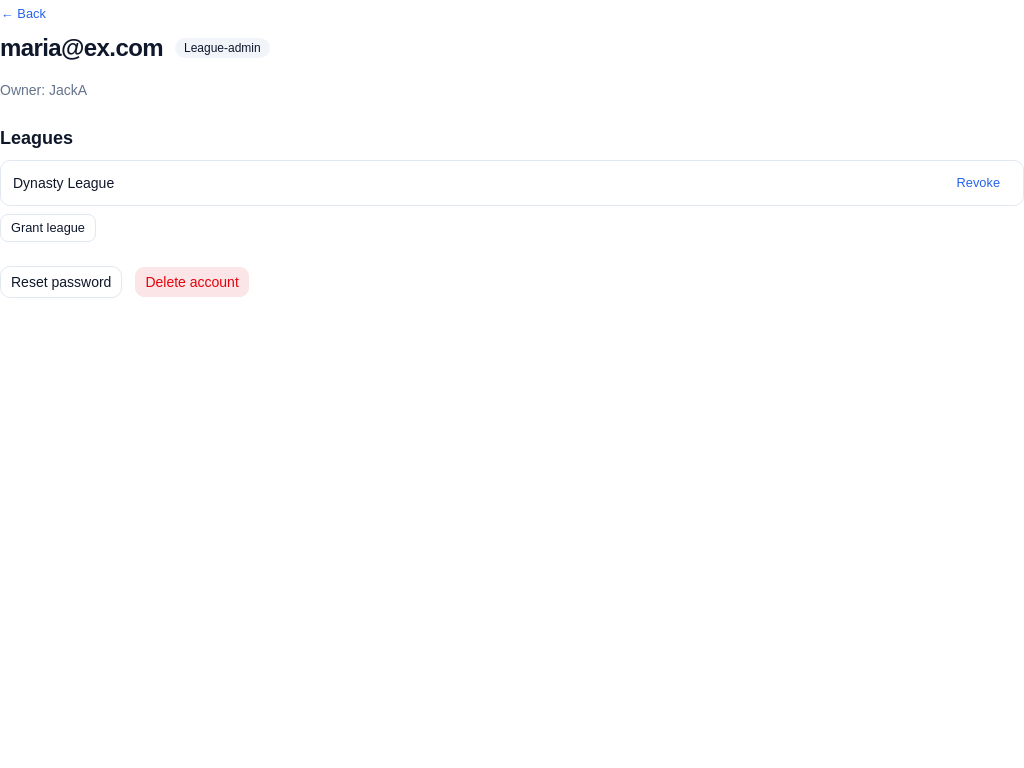
Test: saving a valid new password submits, closes the dialog, and clears the error
The image size is (1024, 768).
Click the button "Reset password" at x=61, y=282, box [0,266,122,298]
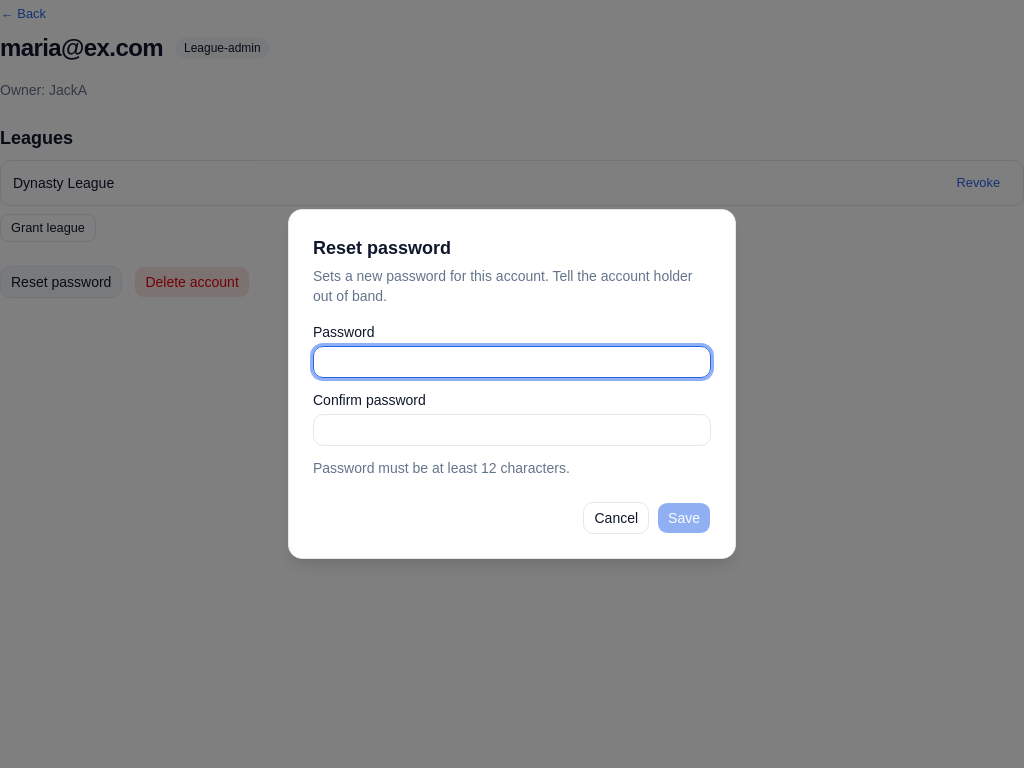
Type "longenoughpw123" into the password field labelled "Password" at x=512, y=362, box [313,346,711,378]
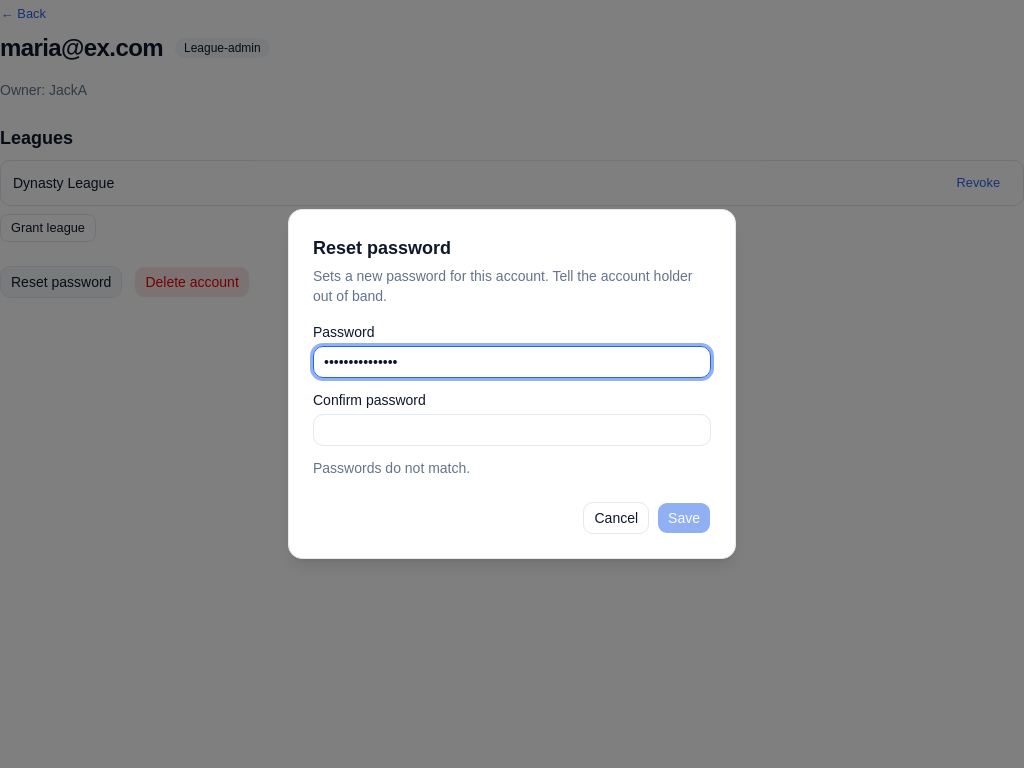
Type "longenoughpw123" into the password field labelled "Confirm password" at x=512, y=430, box [313,414,711,446]
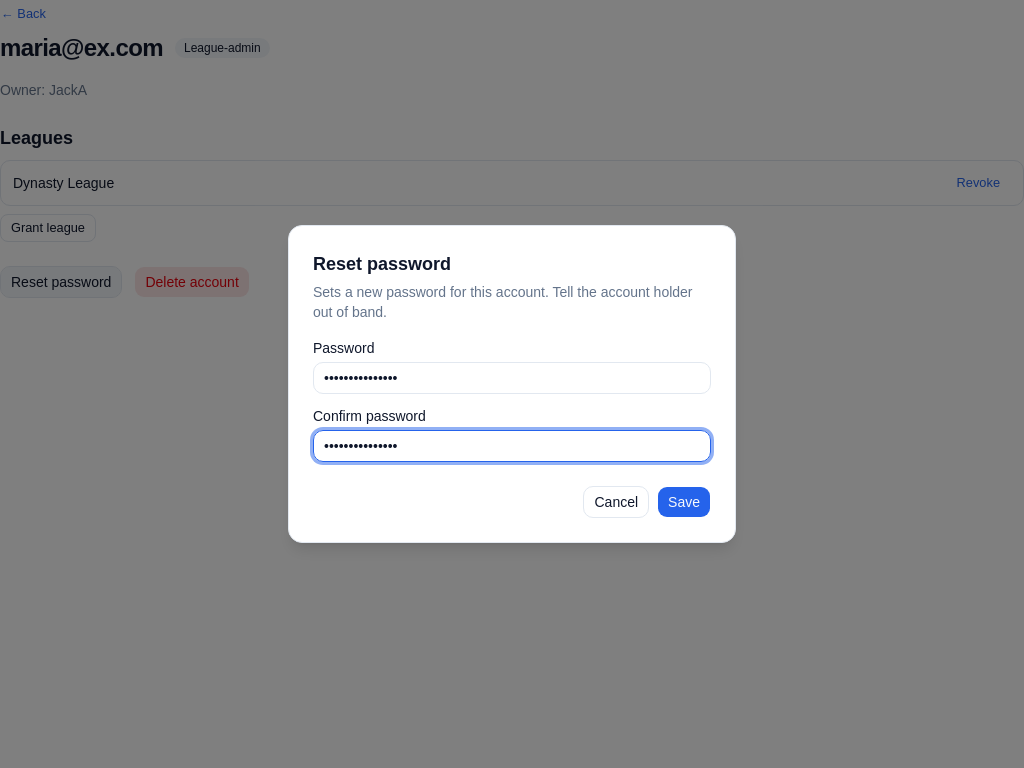
Click the button "Save" at x=684, y=502, box [657,486,711,518]
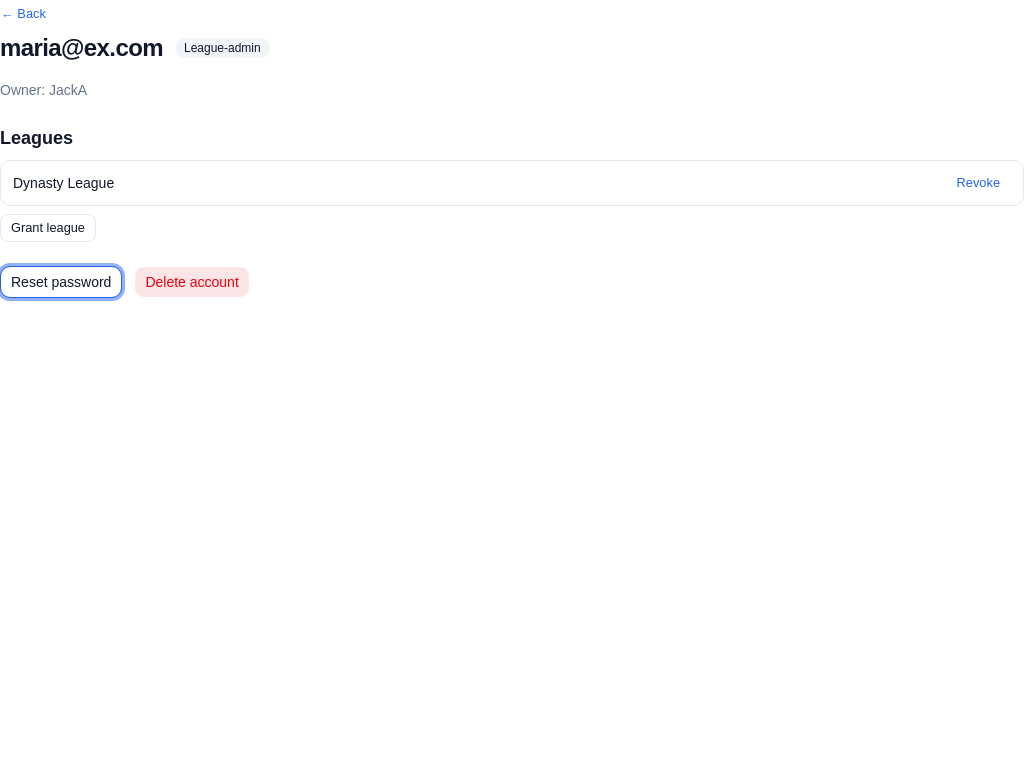
Check: the dialog is gone
